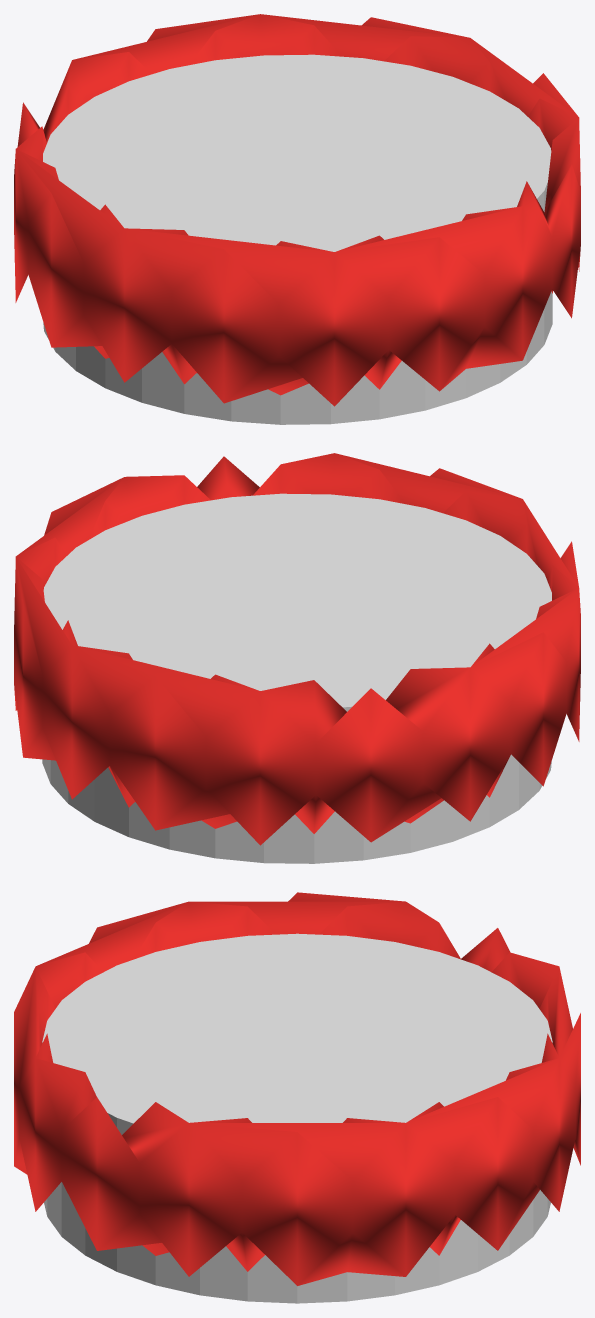
Rendered from smoothWave.fbx.
3 views of the same model, one above another, from view 1: azimuth 30°, elevation 25°; view 2: azimuth 150°, elevation 25°; view 3: azimuth 270°, elevation 25° (orthographic).
Visible parts, largest first — view 1: 円柱, 円柱.001; view 2: 円柱, 円柱.001; view 3: 円柱, 円柱.001.
Boxes of the visible parts, box(x1,y1,x2,y2) form: 円柱: box(14, 14, 580, 406); 円柱.001: box(43, 54, 552, 424); 円柱: box(14, 453, 580, 845); 円柱.001: box(42, 493, 551, 863); 円柱: box(14, 892, 580, 1285); 円柱.001: box(42, 933, 552, 1303).
Size of the model in its own units: 1000 by 357 by 1000.
